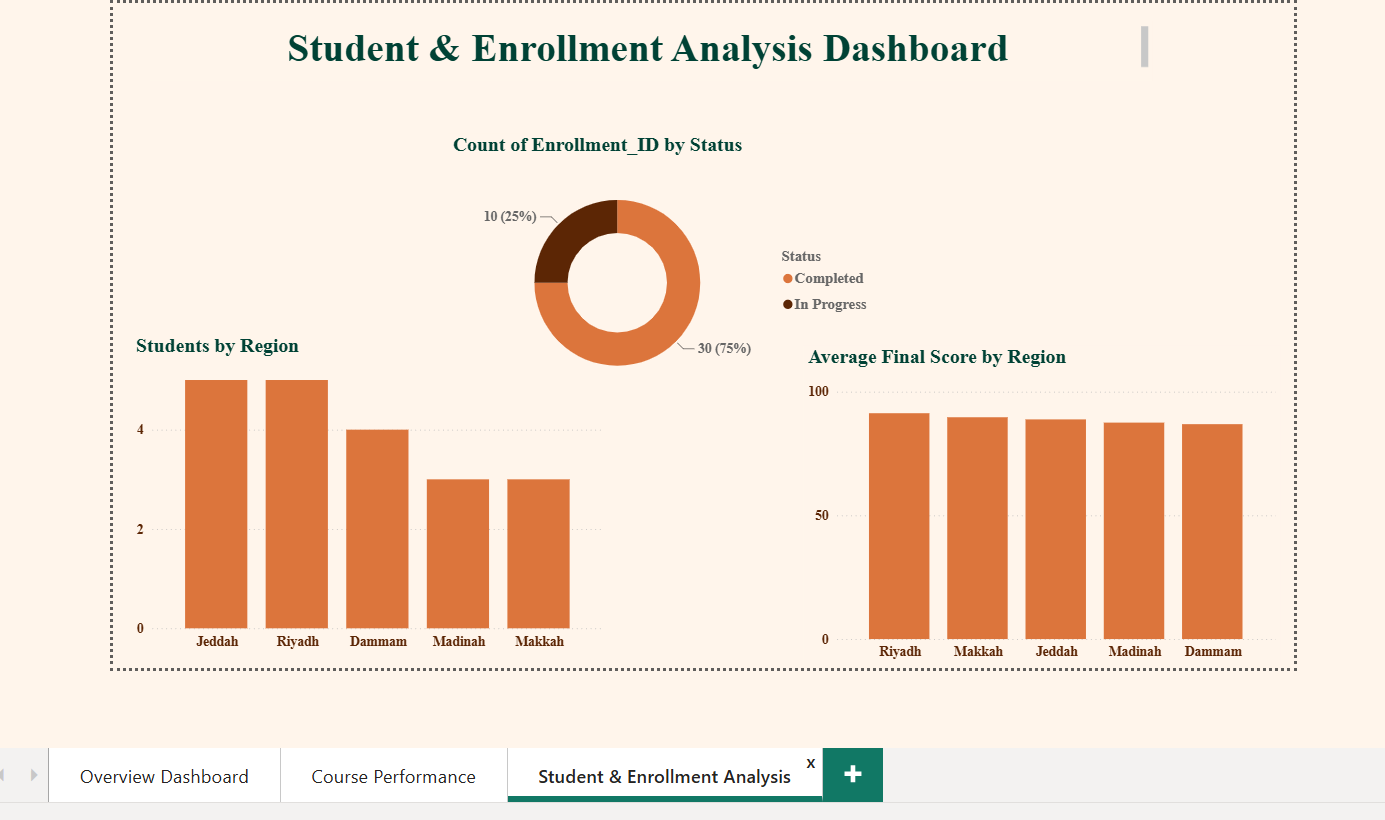

The dashboard page shown, as its layout file describes it:
{"tool":"powerbi","page":{"name":"Student & Enrollment Analysis","canvas":[1280,720],"ordinal":2},"visuals":[{"type":"textbox","box":[40,20,1087.1,64.3],"z":0},{"type":"clusteredColumnChart","title":"Students by Region","fields":{"Category":["Students.Region"],"Y":["CountNonNull(Students.Student_ID)"]},"box":[20,360,517.1,348.6],"z":1},{"type":"donutChart","fields":{"Y":["CountNonNull(Enrollments.Enrollment_ID)"],"Category":["Enrollments.Status"]},"box":[363.3,141.7,468.3,288.3],"z":2},{"type":"clusteredColumnChart","title":"Average Final Score by Region","fields":{"Category":["Students.Region"],"Y":["Performance.Average Final Score"]},"box":[748.3,371.7,517.1,348.6],"z":3}]}

Visuals, with their boxes on the page's 1280x720 design canvas (x1, y1, x2, y2). These are canvas units, not pixel positions in the 1385x820 screenshot, which may show the page scaled, cropped or inside an application window:
textbox: locate(40, 20, 1127, 84)
"Students by Region" clusteredColumnChart: locate(20, 360, 537, 709)
donutChart - CountNonNull(Enrollments.Enrollment_ID) x Enrollments.Status: locate(363, 142, 832, 430)
"Average Final Score by Region" clusteredColumnChart: locate(748, 372, 1265, 720)
